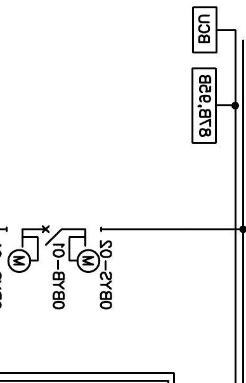115_1way_ds_w_motor: (68, 226, 102, 274), (5, 226, 39, 274)
115_breaker: (42, 225, 62, 246)
BCU: (192, 6, 218, 54)
